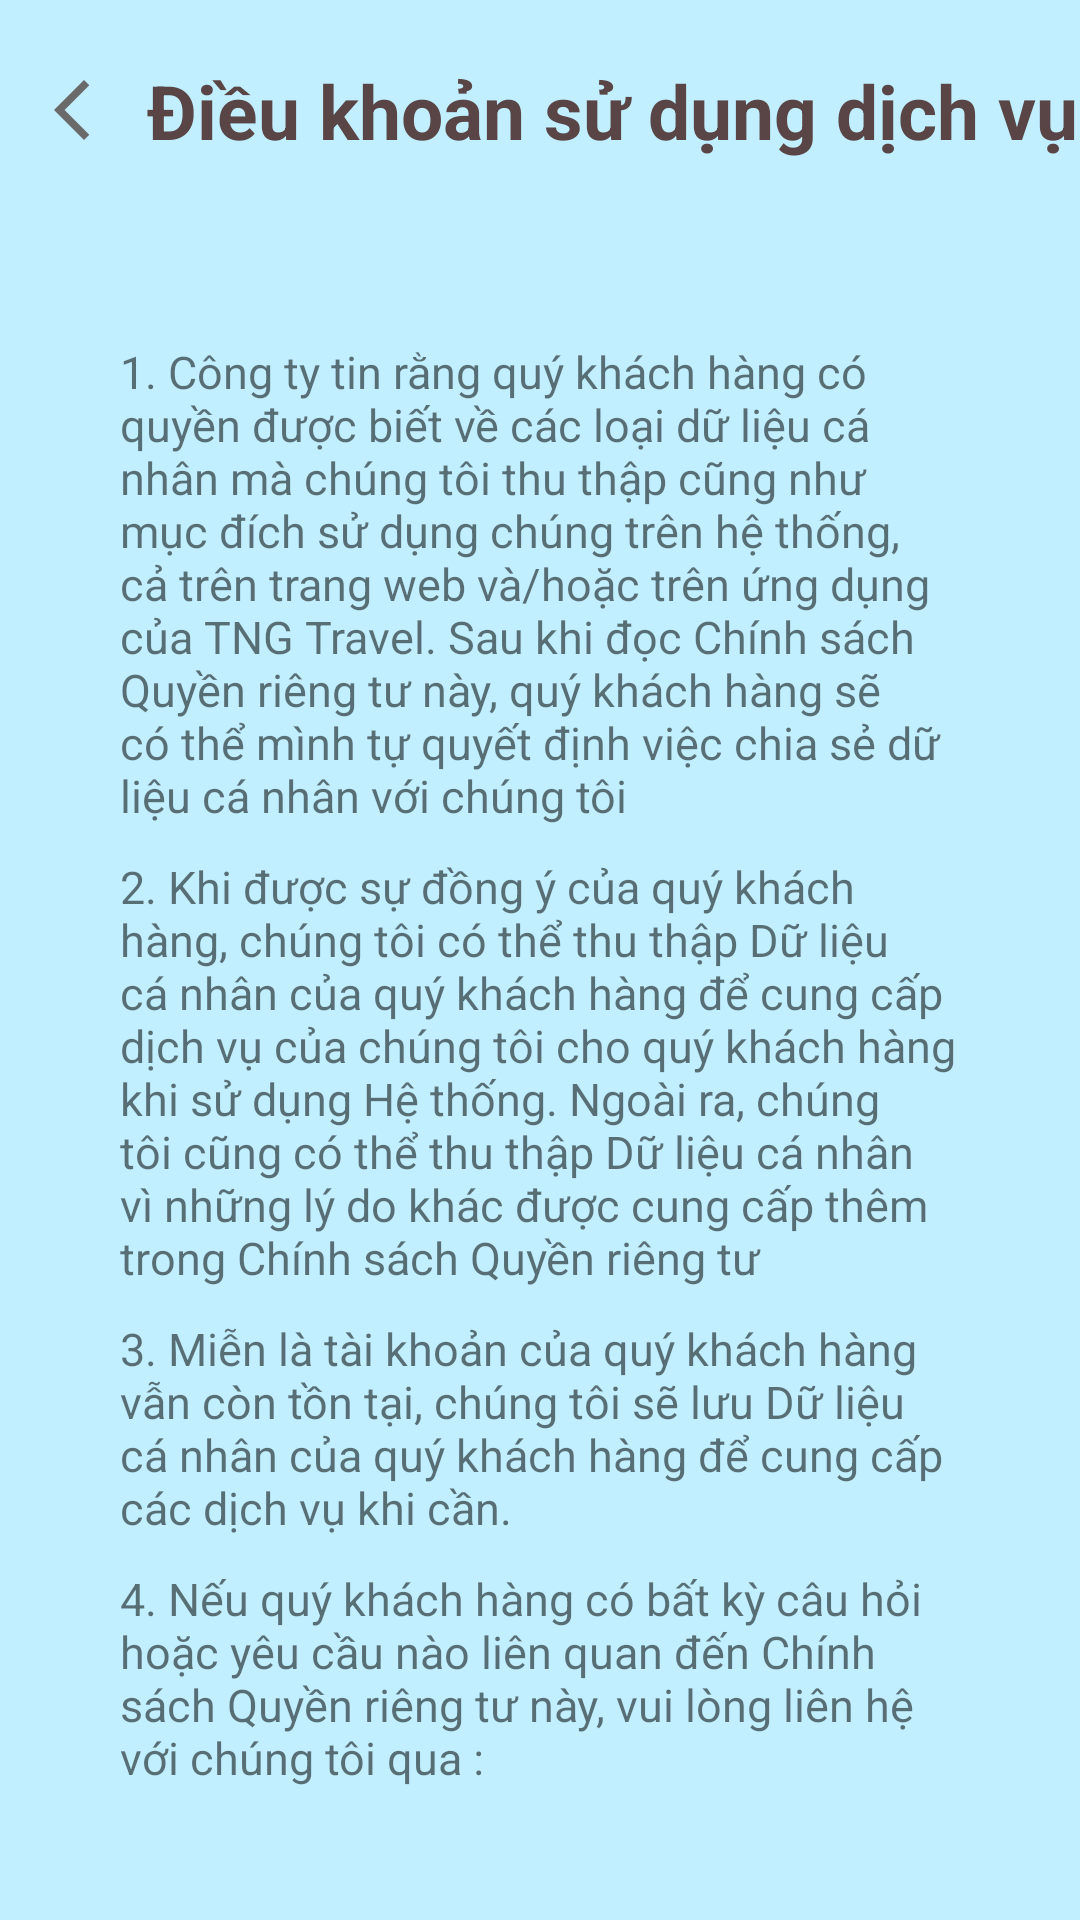

Screen size 1080px×1920px. Icon name, then its center in pixels as point (x, y):
arrow back: point (71, 110)
